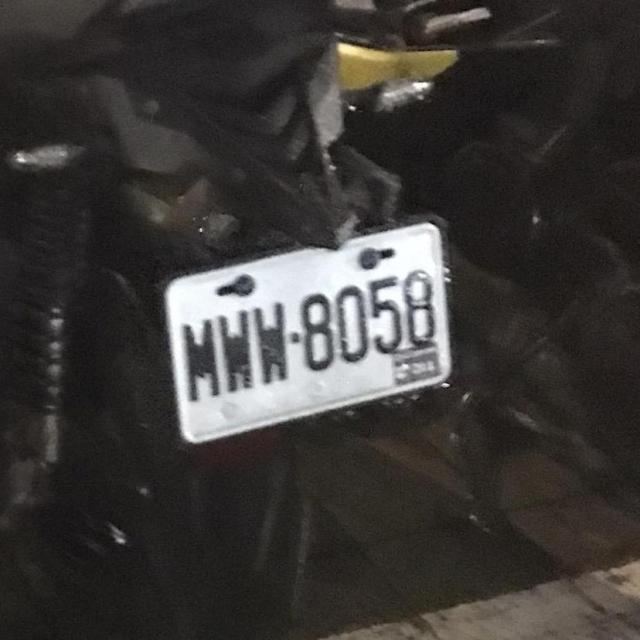W: (162, 224, 460, 448)
